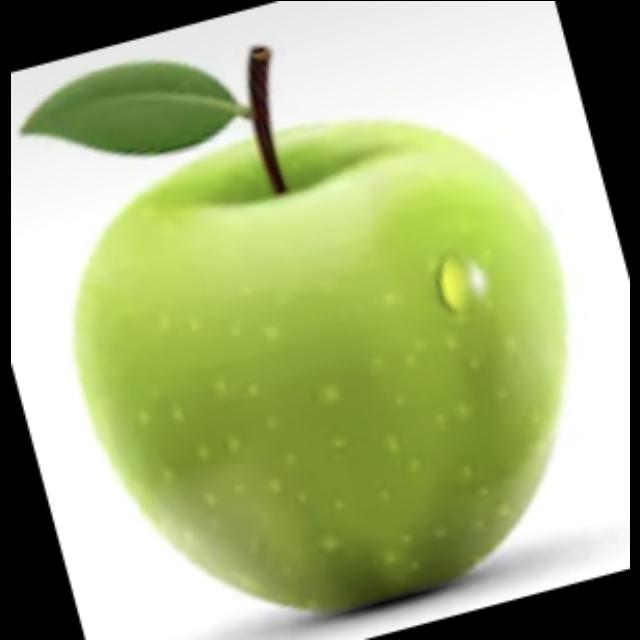Apel Segar: (71, 113, 565, 615)
